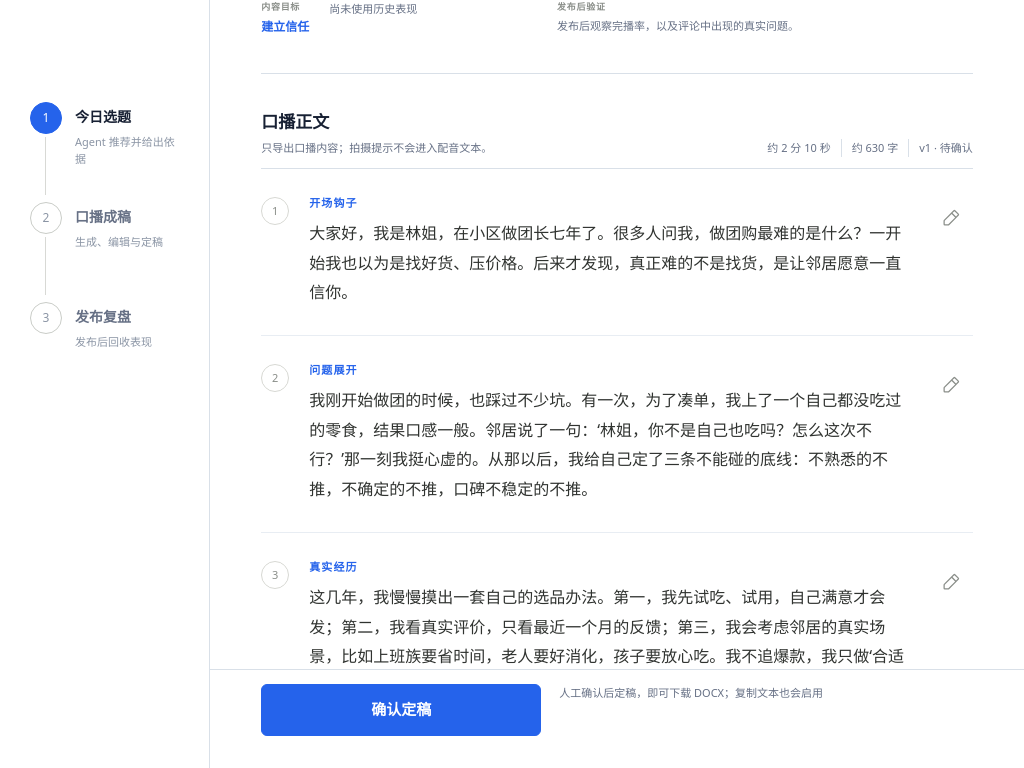
Scenario: approved AI-native page hierarchy › saves all paragraphs before closing one paragraph editor
The image size is (1024, 768).
(page scrolled)
Click the button named "编辑第 2 段": [951, 385] box 929,363 -> 973,407
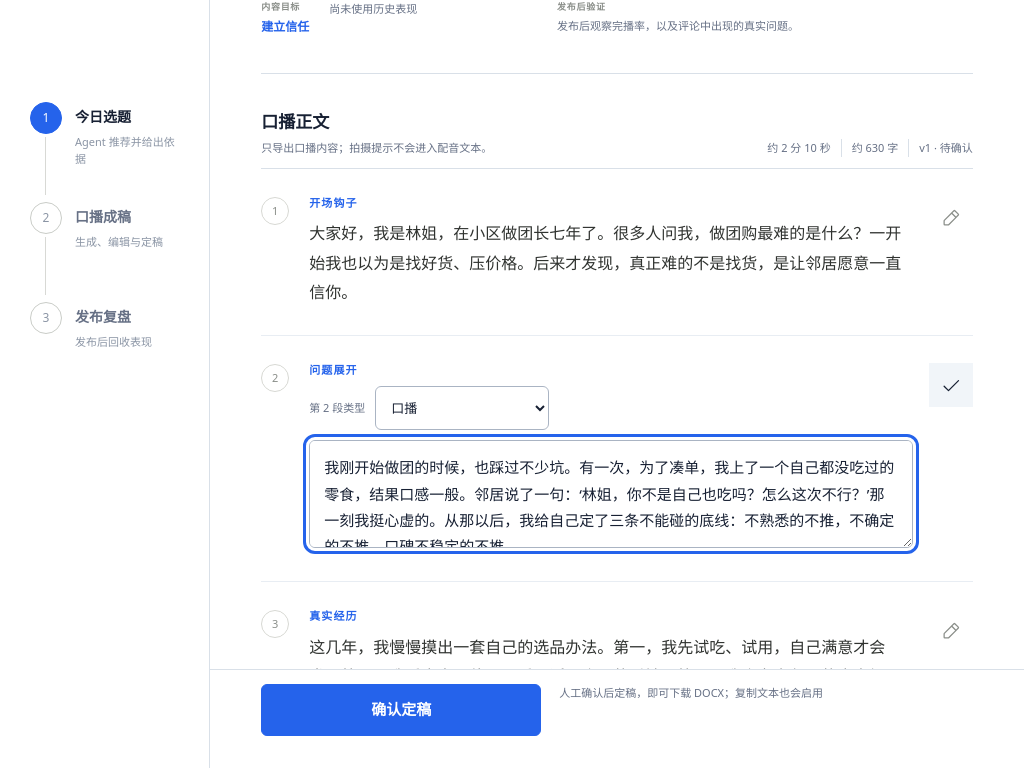
Replace the text in the text box named "第 2 段" with "持久化后的第二段": [611, 494] box 309,440 -> 913,548
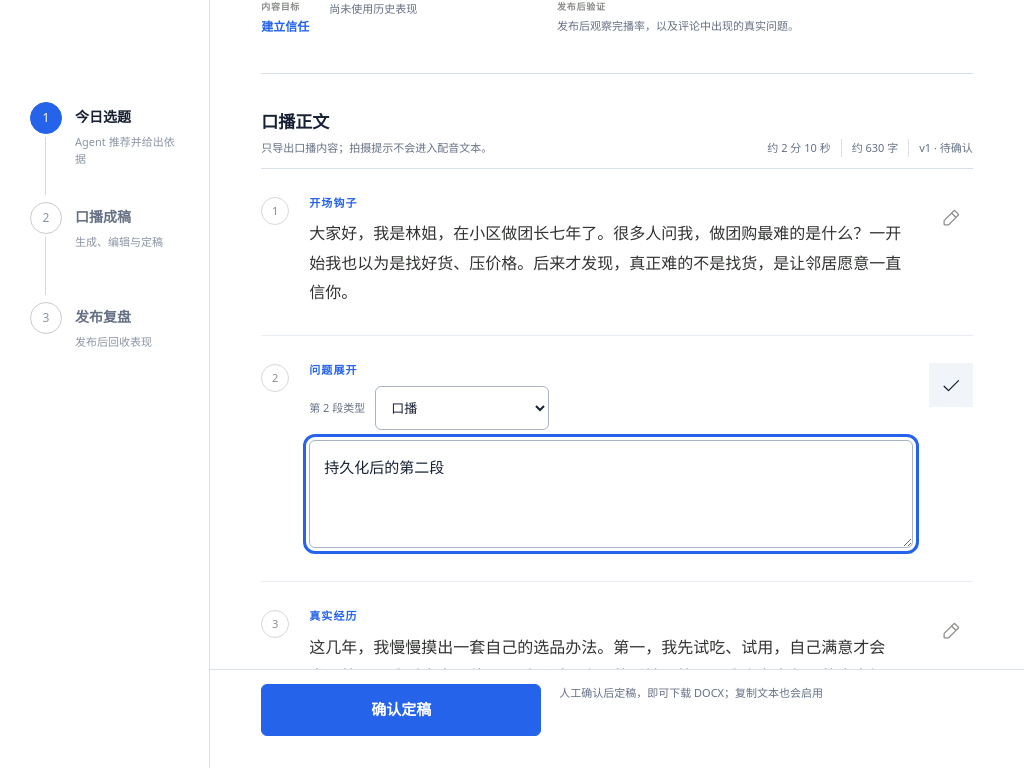
Click the button named "完成第 2 段编辑": [951, 385] box 929,363 -> 973,407
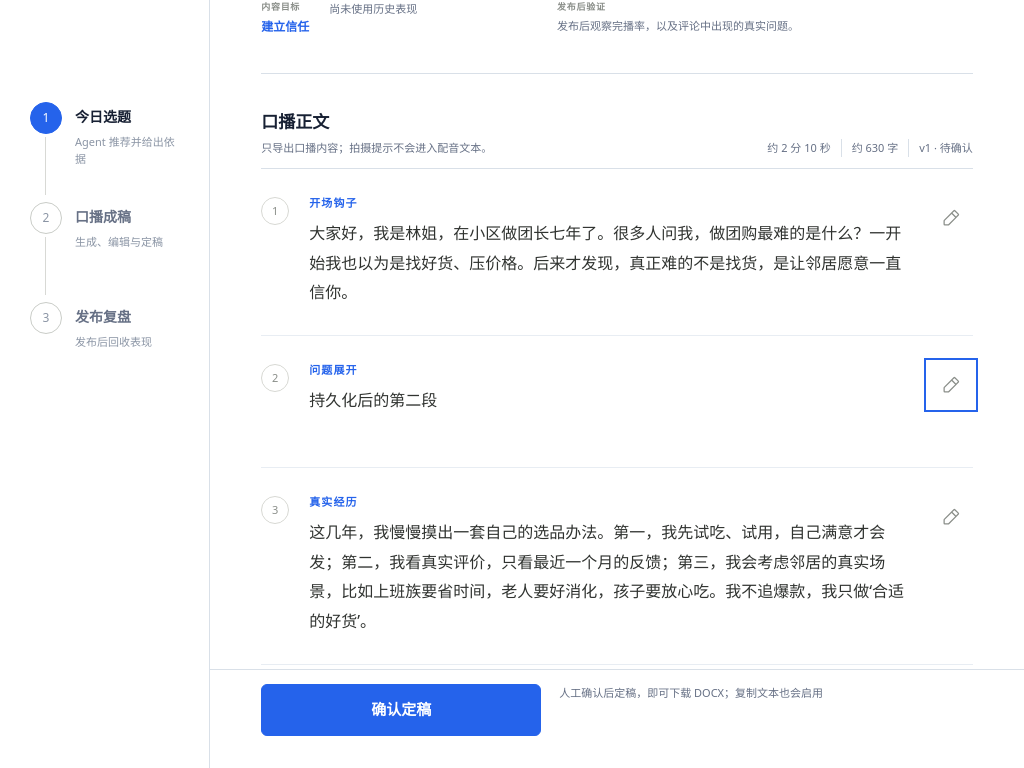
Expected: the text "第 2 段" is gone
